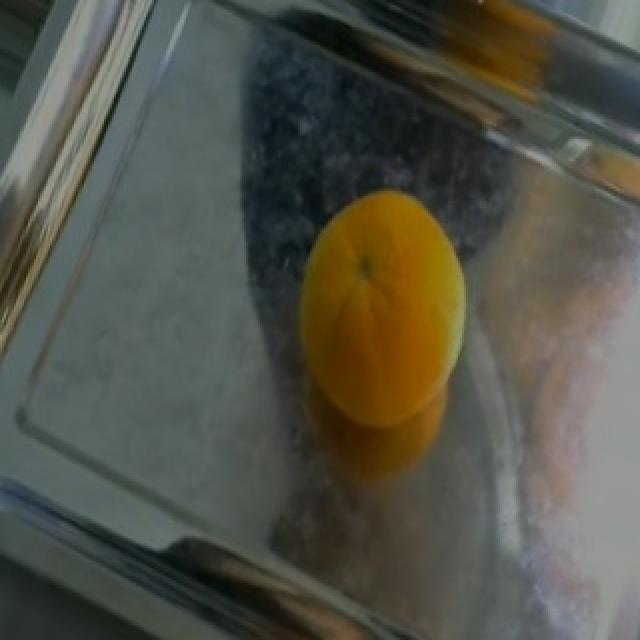Fruit: (276, 176, 492, 511)
